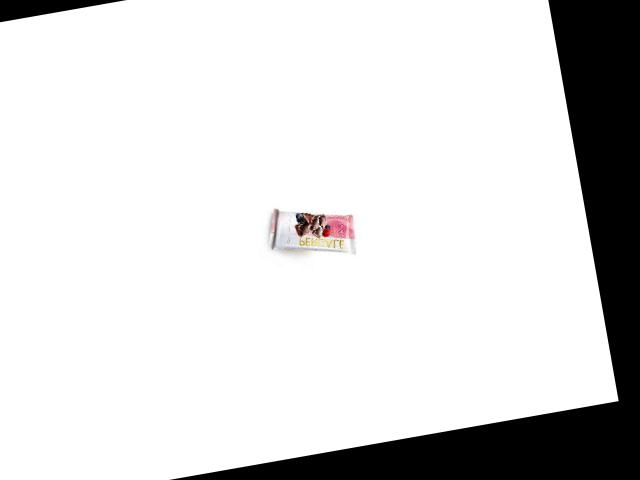chocolate: (266, 193, 358, 267)
